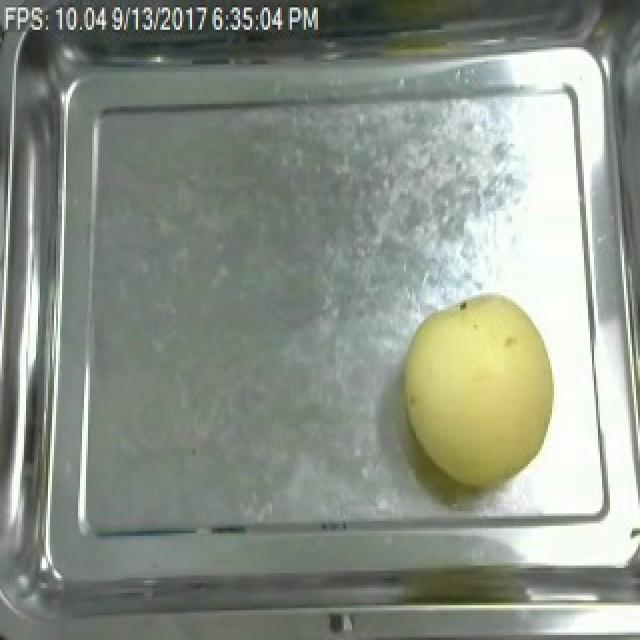Fruit: (394, 287, 566, 493)
